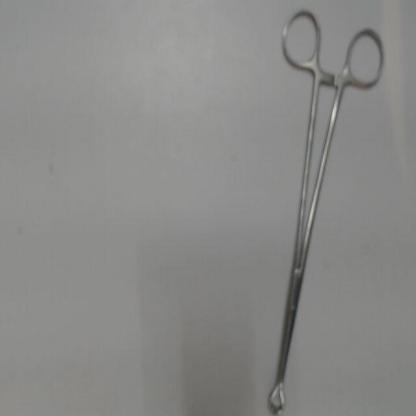8 Babcock Tissue Forceps: (262, 5, 392, 415)
